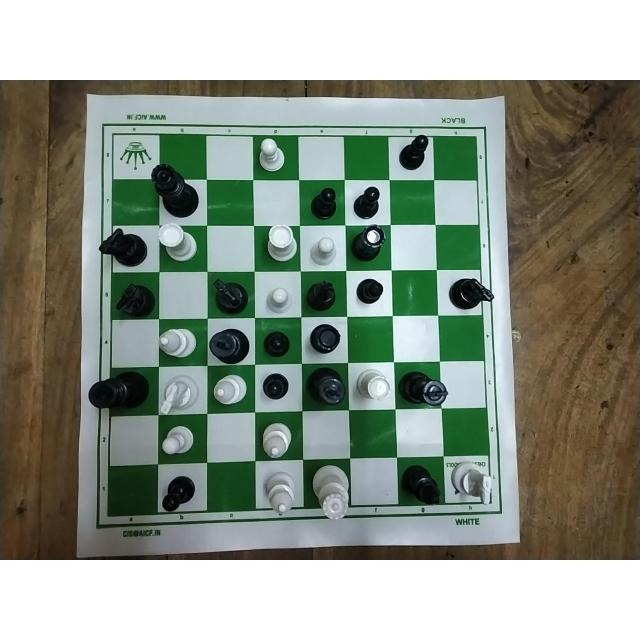black-bishop: (399, 466, 442, 506), (304, 280, 336, 312)
black-king: (88, 371, 148, 411), (398, 369, 450, 405), (305, 366, 347, 405), (206, 326, 250, 363)
black-knight: (98, 226, 148, 266), (447, 276, 495, 312), (110, 281, 155, 318), (212, 276, 250, 315)
black-pawn: (160, 475, 195, 511), (398, 134, 428, 170), (353, 186, 383, 218), (310, 186, 338, 220), (262, 328, 294, 356), (259, 372, 291, 400), (354, 276, 384, 303)
black-queen: (148, 162, 200, 216)
black-rook: (350, 222, 386, 264), (307, 323, 343, 355)
white-bishop: (260, 470, 296, 514), (157, 324, 195, 361), (259, 422, 291, 460), (212, 371, 246, 405)
white-knight: (450, 459, 493, 507), (158, 374, 201, 416)
white-pawn: (256, 137, 286, 173), (162, 424, 194, 455), (307, 237, 338, 267), (264, 285, 295, 314)
white-queen: (309, 463, 350, 520)
white-rook: (157, 220, 197, 264), (264, 223, 297, 263), (356, 368, 392, 403)
